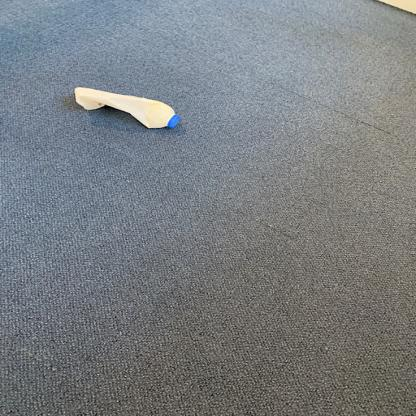trash: (73, 87, 184, 132)
